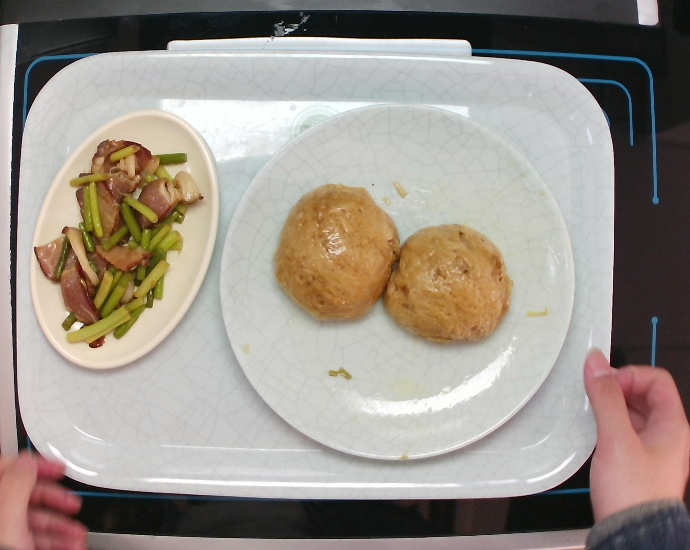JYsf-Da_Yuan_Pan: (217, 101, 577, 464)
JYsf-Tuo_Yuan_Wan: (26, 109, 222, 374)
